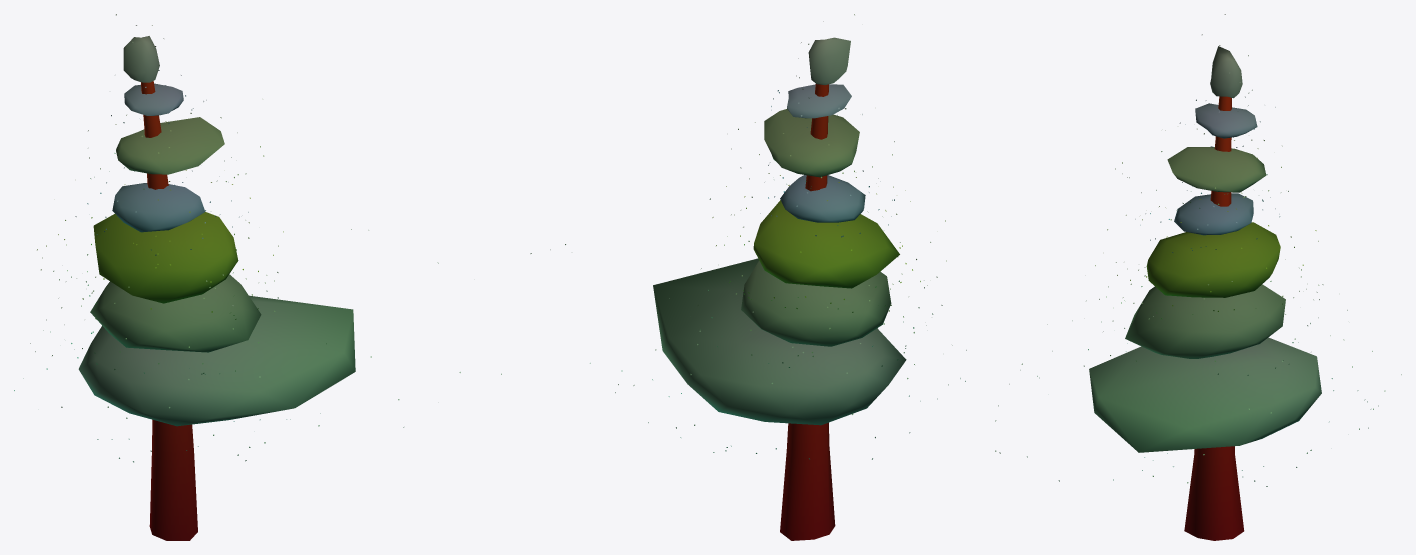
The model's file is card_fir.glb.
The picture shows the model from 3 angles, left to right: view 1: azimuth 30°, elevation 25°; view 2: azimuth 150°, elevation 25°; view 3: azimuth 270°, elevation 25°; orthographic projection. The views are drawn at different scales.
Visible parts, largest first — view 1: card_fir_LOD0; view 2: card_fir_LOD0; view 3: card_fir_LOD0.
Part boxes in pixels (box(x1,y1,x2,y2)): card_fir_LOD0: box(14, 14, 501, 540); card_fir_LOD0: box(530, 14, 966, 540); card_fir_LOD0: box(995, 14, 1401, 540).
Size of what is drawn, in the model's own units: 7.04 by 8.55 by 6.38.
